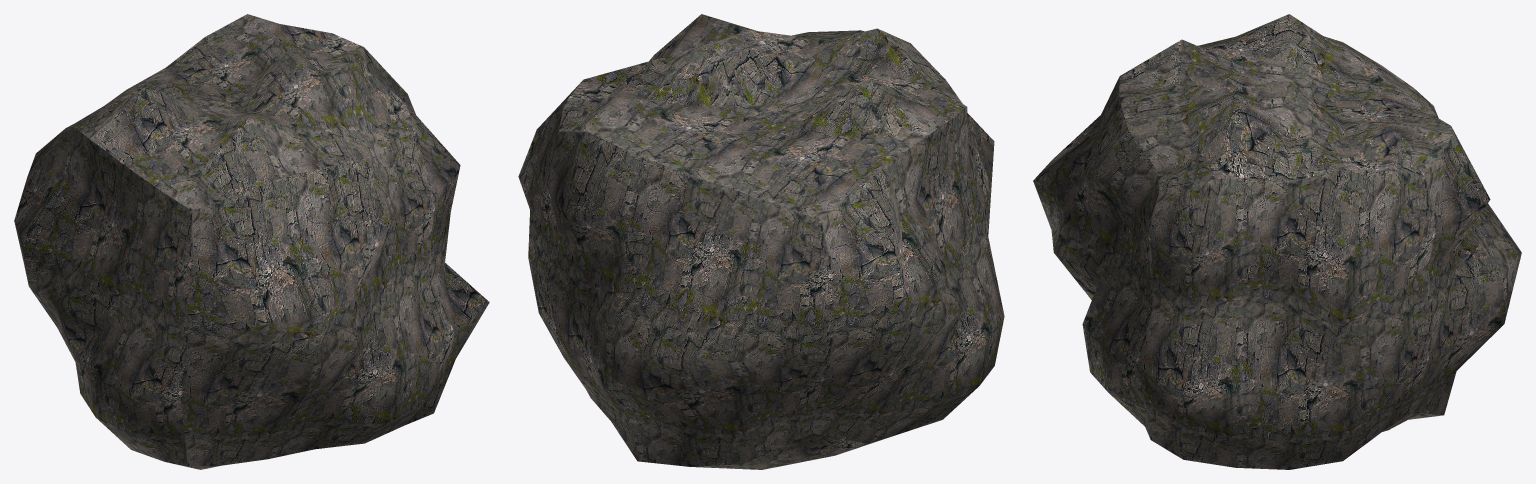
Rendered from rock.FBX.
The picture shows the model from 3 angles, left to right: view 1: azimuth 30°, elevation 25°; view 2: azimuth 150°, elevation 25°; view 3: azimuth 270°, elevation 25°; orthographic projection. The views are drawn at different scales.
Visible parts, largest first — view 1: Box002; view 2: Box002; view 3: Box002.
Boxes of the visible parts, x1,y1,x2,y2 form: Box002: (14, 14, 489, 469); Box002: (518, 14, 1004, 469); Box002: (1033, 14, 1521, 469).
Size of the model in its own units: 470 by 387 by 501.
Materials: 1 (1 with a texture image).
